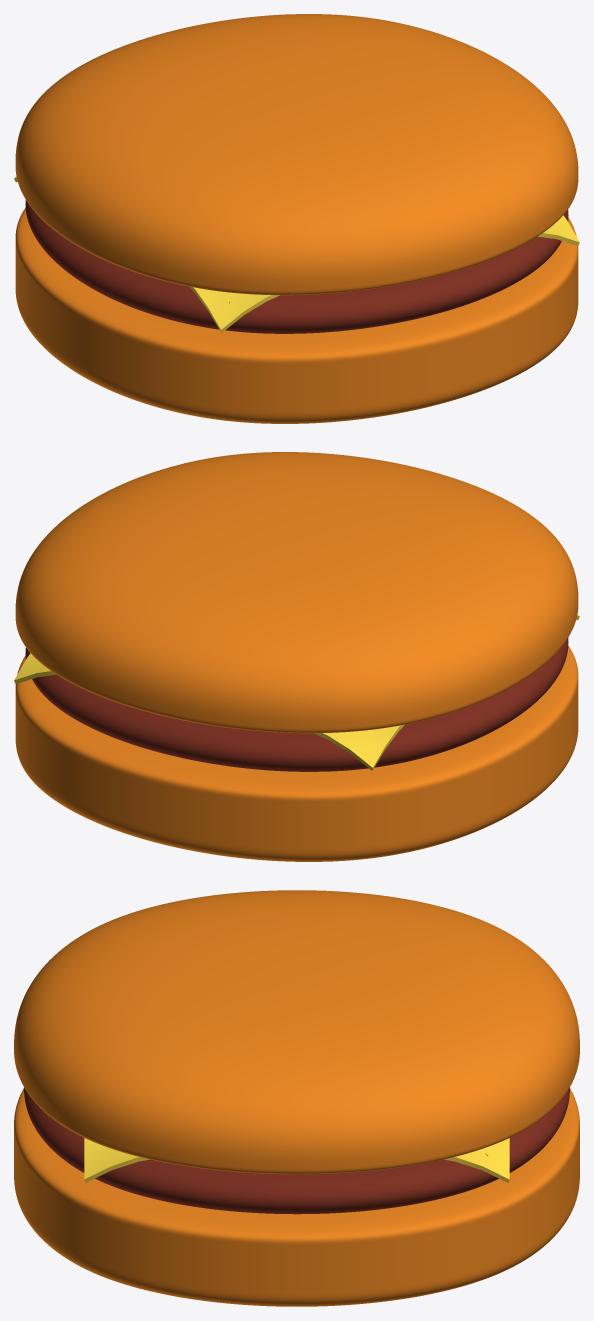
The model's file is hamburger.glb.
3 views of the same model, one above another, from view 1: azimuth 30°, elevation 25°; view 2: azimuth 150°, elevation 25°; view 3: azimuth 270°, elevation 25° (orthographic). The views are drawn at different scales.
Visible parts, largest first — view 1: Cube.002, Cube, Cube.001, Plane; view 2: Cube.002, Cube, Cube.001, Plane; view 3: Cube.002, Cube, Cube.001, Plane.
Boxes of the visible parts, left/top/right/bottom form: Cube.002: left=15, top=14, right=578, bottom=295; Cube: left=15, top=208, right=578, bottom=423; Cube.001: left=25, top=200, right=568, bottom=333; Plane: left=14, top=176, right=579, bottom=332; Cube.002: left=15, top=452, right=578, bottom=733; Cube: left=15, top=646, right=578, bottom=861; Cube.001: left=25, top=638, right=568, bottom=771; Plane: left=14, top=614, right=579, bottom=770; Cube.002: left=14, top=890, right=579, bottom=1174; Cube: left=14, top=1088, right=579, bottom=1306; Cube.001: left=24, top=1087, right=569, bottom=1214; Plane: left=84, top=1138, right=509, bottom=1182.
Bounding box in the file's own units: 9.31 × 4.37 × 9.31.
